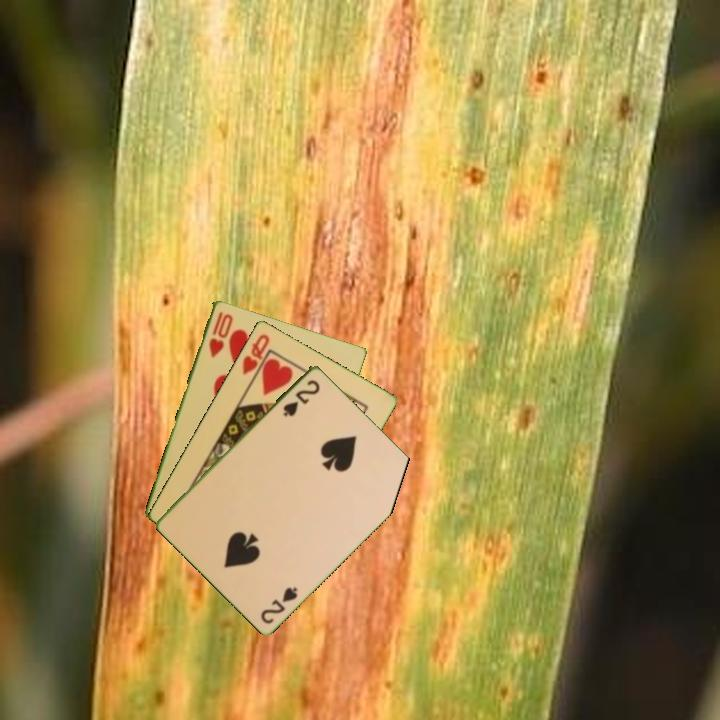10h: (205, 307, 235, 360)
2s: (257, 583, 301, 626), (280, 376, 323, 419)
Qh: (238, 330, 272, 377)
